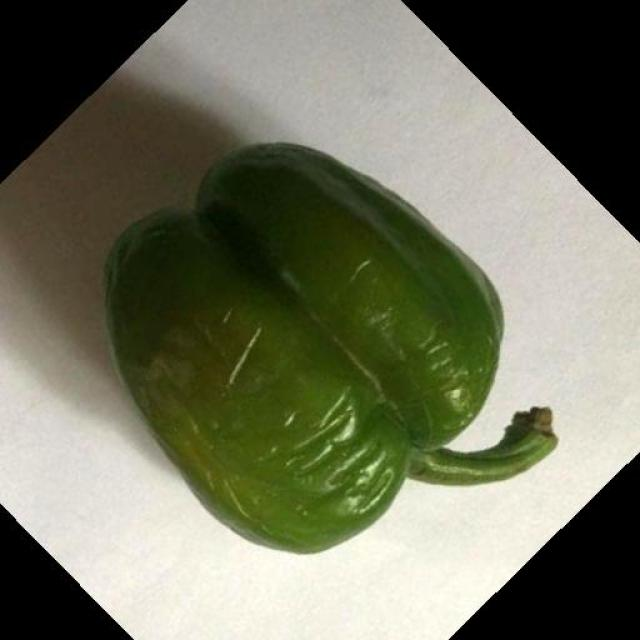Stale_Capsicum: (127, 109, 497, 552)
